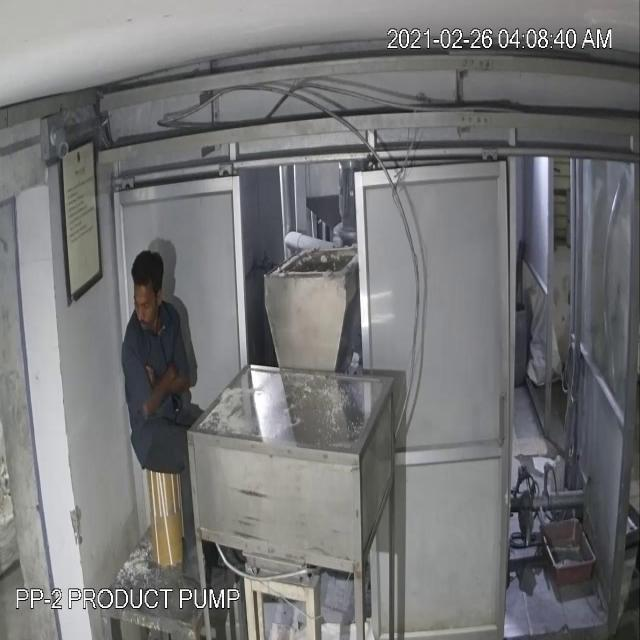no-helmet: (126, 244, 168, 308)
